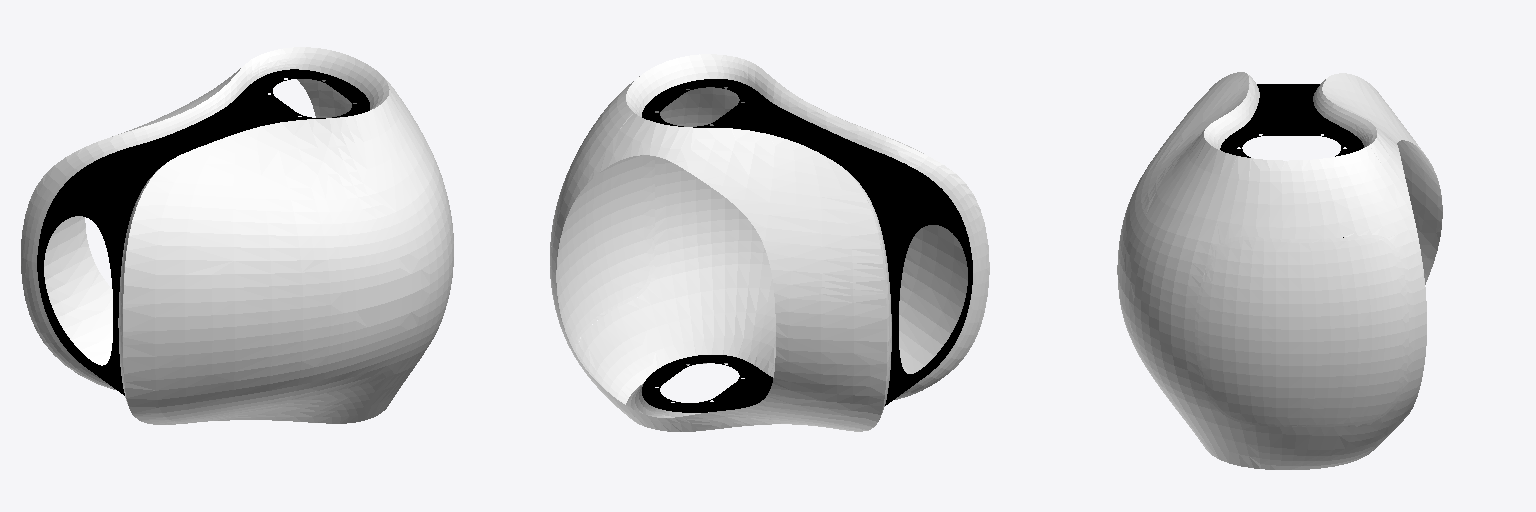
File: Kopf_B.obj
3 views of the same model, side by side, from view 1: azimuth 30°, elevation 25°; view 2: azimuth 150°, elevation 25°; view 3: azimuth 270°, elevation 25° (orthographic).
Parts seen in each view (by area): view 1: Stamm|Minimal-Kopf_(Standard)|Kopf-1|Kopfschale-2|Body-2|color-2, Stamm|Minimal-Kopf_(Standard)|Kopf-1|Kopfschale-2|Body-2|color-3; view 2: Stamm|Minimal-Kopf_(Standard)|Kopf-1|Kopfschale-2|Body-2|color-2, Stamm|Minimal-Kopf_(Standard)|Kopf-1|Kopfschale-2|Body-2|color-3, Stamm|Minimal-Kopf_(Standard)|Kopf-1|Kopf_Akkuabdeckung-1|Body-0; view 3: Stamm|Minimal-Kopf_(Standard)|Kopf-1|Kopfschale-2|Body-2|color-2, Stamm|Minimal-Kopf_(Standard)|Kopf-1|Kopf_Akkuabdeckung-1|Body-0, Stamm|Minimal-Kopf_(Standard)|Kopf-1|Kopfschale-2|Body-2|color-3.
Boxes of the visible parts, <box> form: Stamm|Minimal-Kopf_(Standard)|Kopf-1|Kopfschale-2|Body-2|color-2: <box>21,47,453,424</box>; Stamm|Minimal-Kopf_(Standard)|Kopf-1|Kopfschale-2|Body-2|color-3: <box>37,69,369,395</box>; Stamm|Minimal-Kopf_(Standard)|Kopf-1|Kopfschale-2|Body-2|color-2: <box>551,54,989,431</box>; Stamm|Minimal-Kopf_(Standard)|Kopf-1|Kopfschale-2|Body-2|color-3: <box>642,79,972,412</box>; Stamm|Minimal-Kopf_(Standard)|Kopf-1|Kopf_Akkuabdeckung-1|Body-0: <box>550,155,654,347</box>; Stamm|Minimal-Kopf_(Standard)|Kopf-1|Kopfschale-2|Body-2|color-2: <box>1117,72,1442,469</box>; Stamm|Minimal-Kopf_(Standard)|Kopf-1|Kopf_Akkuabdeckung-1|Body-0: <box>1195,235,1408,426</box>; Stamm|Minimal-Kopf_(Standard)|Kopf-1|Kopfschale-2|Body-2|color-3: <box>1220,84,1363,237</box>.
Size of the model in its own units: 0.2482 by 0.2071 by 0.1971.